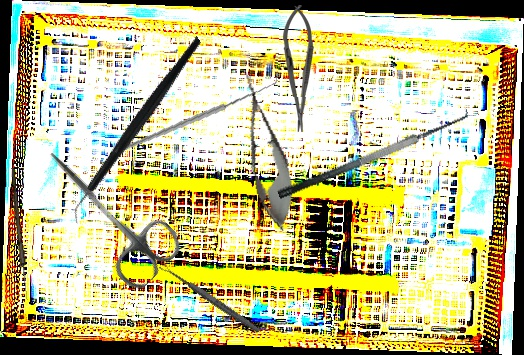Chopper: (27, 35, 249, 228)
Hook Surgical: (119, 54, 278, 172)
Iris Scissors: (23, 130, 188, 295)
Micro Scissor: (227, 65, 304, 236)
Needle Holder: (281, 4, 316, 133)
Spatula Surgical: (270, 100, 474, 201)
Surgical Spoon: (158, 261, 262, 335), (8, 167, 31, 301)
